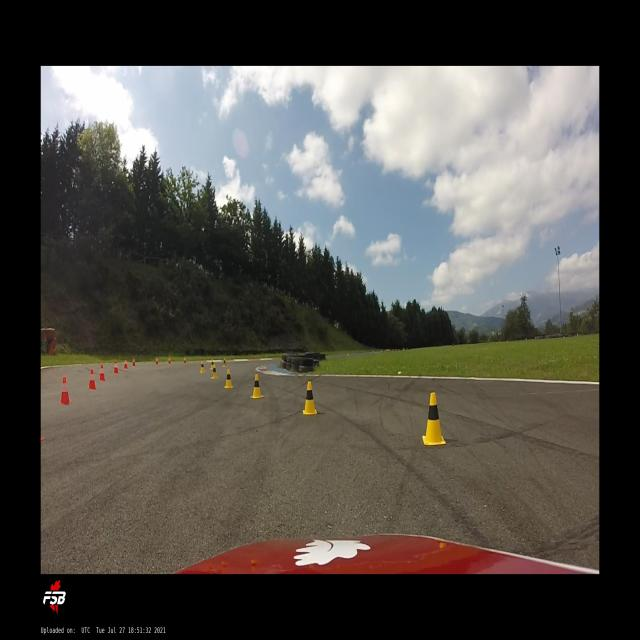orange_cone: (60, 376, 72, 404), (88, 369, 97, 389), (99, 364, 106, 381), (114, 360, 119, 374), (132, 356, 136, 366), (124, 358, 128, 368), (168, 356, 171, 364), (184, 356, 186, 364), (156, 357, 158, 365)
yellow_cone: (422, 393, 446, 445), (302, 381, 318, 416), (250, 374, 263, 399), (224, 368, 234, 388), (211, 364, 218, 379), (200, 360, 206, 374), (210, 358, 215, 370), (222, 358, 227, 368)
